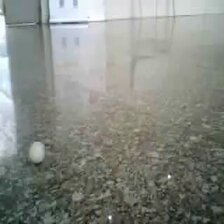w: (27, 140, 48, 165)
